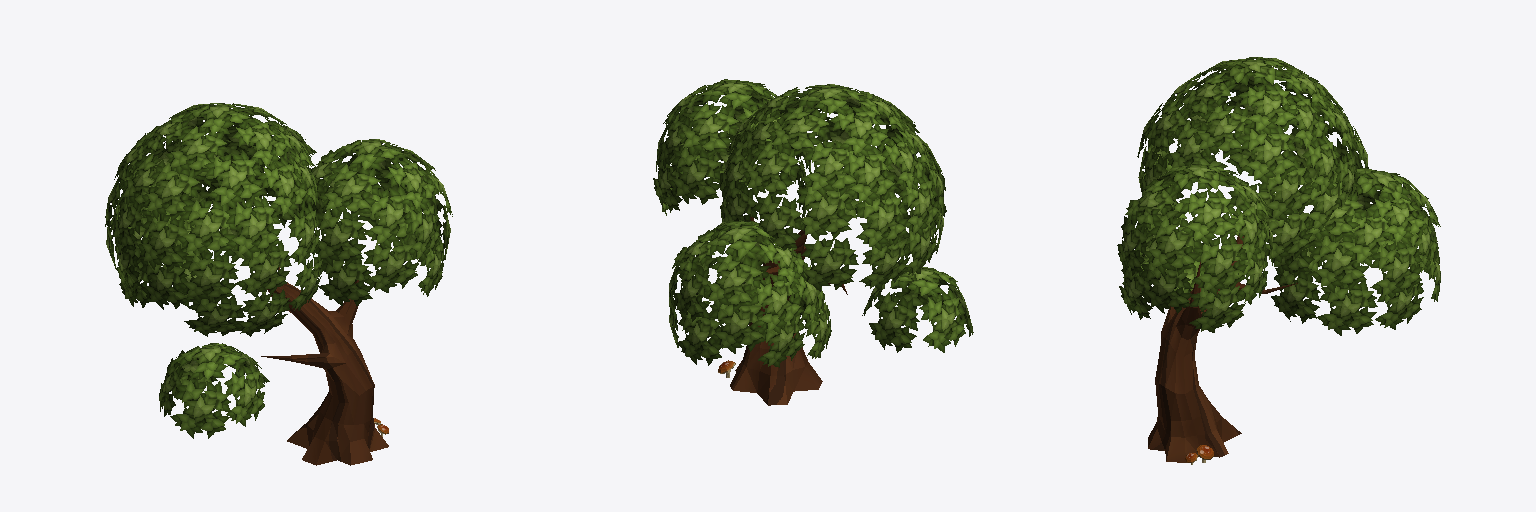
3 renders of one model, left to right at view 1: azimuth 30°, elevation 25°; view 2: azimuth 150°, elevation 25°; view 3: azimuth 270°, elevation 25°, orthographic.
Visible parts, largest first — view 1: Leaves, Tree; view 2: Leaves, Tree; view 3: Leaves, Tree.
Boxes of the visible parts, box(x1,y1,x2,y2) form: Leaves: box(105, 103, 452, 438); Tree: box(261, 267, 388, 465); Leaves: box(653, 79, 973, 367); Tree: box(730, 217, 847, 405); Leaves: box(1117, 57, 1440, 335); Tree: box(1148, 235, 1297, 462).
Bounding box in the file's own units: 8.29 × 8.98 × 7.9.
4 materials, 3 textured.